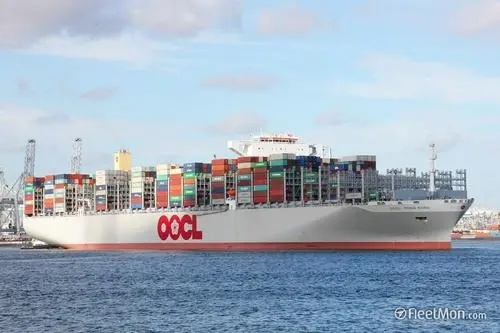Cargoship: (18, 133, 472, 255)
